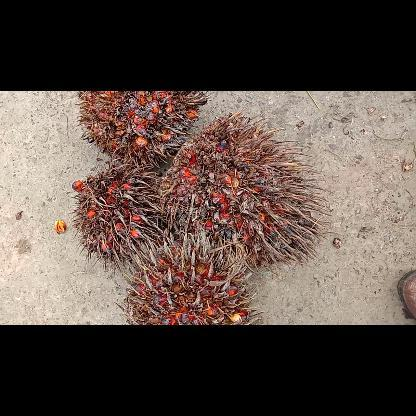Terlalu masak: (157, 108, 334, 276), (119, 230, 267, 324), (67, 159, 168, 269), (72, 91, 210, 169)
